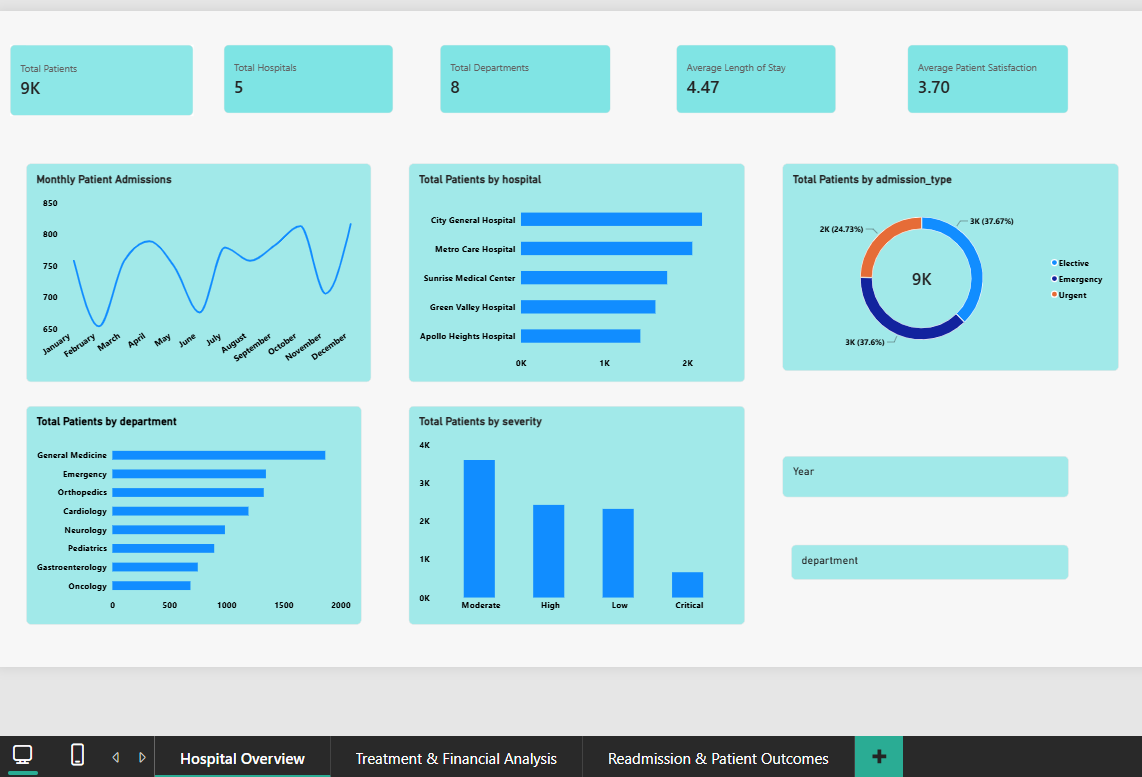

The page's visual inventory and layout, read from the dashboard file:
{"tool":"powerbi","page":{"name":"Hospital Overview","canvas":[1920,1080],"ordinal":0},"visuals":[{"type":"lineChart","title":"Monthly Patient Admissions","fields":{"Category":["hospital_records hospitals.admission_date.Variation.Date Hierarchy.Month"],"Y":["Count(hospital_records hospitals.patient_id)"]},"box":[51.5,251.1,568.1,360.2],"z":0},{"type":"cardVisual","fields":{"Data":["hospital_records hospitals.Total Patients"]},"box":[24.7,55.6,302.6,117.3],"z":1000},{"type":"cardVisual","fields":{"Data":["hospital_records hospitals.Total Hospitals"]},"box":[376.7,55.6,279.9,113.2],"z":2000},{"type":"cardVisual","fields":{"Data":["hospital_records hospitals.Average Length of Stay"]},"box":[1121.8,55.6,263.5,113.2],"z":3000},{"type":"cardVisual","fields":{"Data":["hospital_records hospitals.Total Departments"]},"box":[732.8,55.6,282,113.2],"z":4000},{"type":"cardVisual","fields":{"Data":["hospital_records hospitals.Average Patient Satisfaction"]},"box":[1502.6,55.6,265.5,113.2],"z":5000},{"type":"clusteredBarChart","title":"Total Patients by hospital","fields":{"Category":["hospital_records hospitals.hospital"],"Y":["hospital_records hospitals.Total Patients"]},"box":[681.3,251.1,553.7,360.2],"z":6000},{"type":"clusteredBarChart","fields":{"Category":["hospital_records hospitals.department"],"Y":["hospital_records hospitals.Total Patients"]},"box":[51.5,650.4,552,360],"z":7000},{"type":"clusteredColumnChart","fields":{"Category":["hospital_records hospitals.severity"],"Y":["hospital_records hospitals.Total Patients"]},"box":[681.3,650.4,553.7,360.2],"z":8000},{"type":"donutChart","fields":{"Category":["hospital_records hospitals.admission_type"],"Y":["hospital_records hospitals.Total Patients"]},"box":[1296.7,251.1,553.7,341.7],"z":9000},{"type":"listSlicer","fields":{"Values":["hospital_records hospitals.admission_date.Variation.Date Hierarchy.Year","hospital_records hospitals.admission_date.Variation.Date Hierarchy.Quarter","hospital_records hospitals.admission_date.Variation.Date Hierarchy.Month","hospital_records hospitals.admission_date.Variation.Date Hierarchy.Day"]},"box":[1296.7,732.8,471.4,67.9],"z":10000},{"type":"listSlicer","fields":{"Values":["hospital_records hospitals.department"]},"box":[1311.2,878.9,456.9,57.6],"z":11000}]}

Visuals, with their boxes on the page's 1920x1080 design canvas (x1, y1, x2, y2). These are canvas units, not pixel positions in the 1142x777 screenshot, which may show the page scaled, cropped or inside an application window:
"Monthly Patient Admissions" lineChart: {"x1": 52, "y1": 251, "x2": 620, "y2": 611}
cardVisual - hospital_records hospitals.Total Patients: {"x1": 25, "y1": 56, "x2": 327, "y2": 173}
cardVisual - hospital_records hospitals.Total Hospitals: {"x1": 377, "y1": 56, "x2": 657, "y2": 169}
cardVisual - hospital_records hospitals.Average Length of Stay: {"x1": 1122, "y1": 56, "x2": 1385, "y2": 169}
cardVisual - hospital_records hospitals.Total Departments: {"x1": 733, "y1": 56, "x2": 1015, "y2": 169}
cardVisual - hospital_records hospitals.Average Patient Satisfaction: {"x1": 1503, "y1": 56, "x2": 1768, "y2": 169}
"Total Patients by hospital" clusteredBarChart: {"x1": 681, "y1": 251, "x2": 1235, "y2": 611}
clusteredBarChart - hospital_records hospitals.department x hospital_records hospitals.Total Patients: {"x1": 52, "y1": 650, "x2": 604, "y2": 1010}
clusteredColumnChart - hospital_records hospitals.severity x hospital_records hospitals.Total Patients: {"x1": 681, "y1": 650, "x2": 1235, "y2": 1011}
donutChart - hospital_records hospitals.admission_type x hospital_records hospitals.Total Patients: {"x1": 1297, "y1": 251, "x2": 1850, "y2": 593}
listSlicer - hospital_records hospitals.admission_date.Variation.Date Hierarchy.Year x hospital_records hospitals.admission_date.Variation.Date Hierarchy.Quarter: {"x1": 1297, "y1": 733, "x2": 1768, "y2": 801}
listSlicer - hospital_records hospitals.department: {"x1": 1311, "y1": 879, "x2": 1768, "y2": 936}
